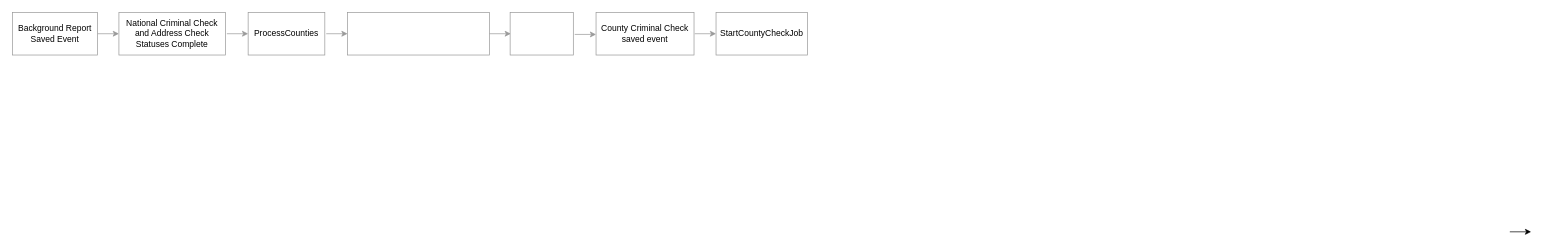
Image size: 1549x250. Some labels were removed from this diagram. Here are the shapes that lost their labels. From the top down, the centre of each, then its label:
At point 418,33: "CompleteReportCountyChargeJob".
At point 541,33: "OrderCounties".
